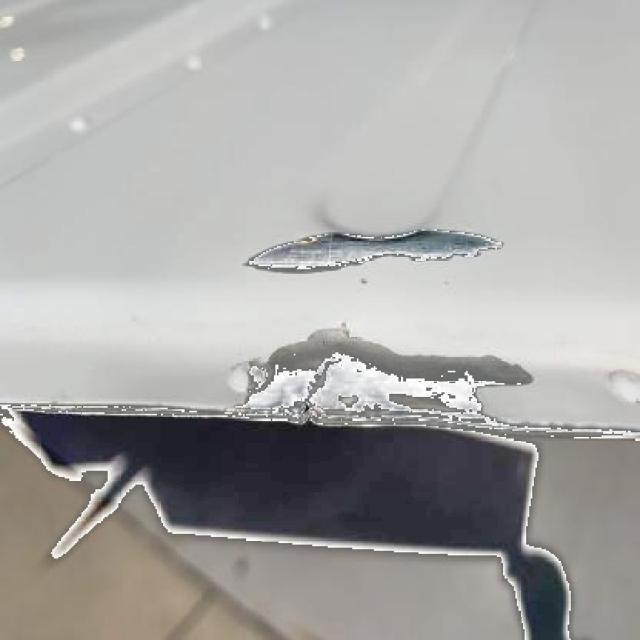crack: (293, 361, 366, 424)
